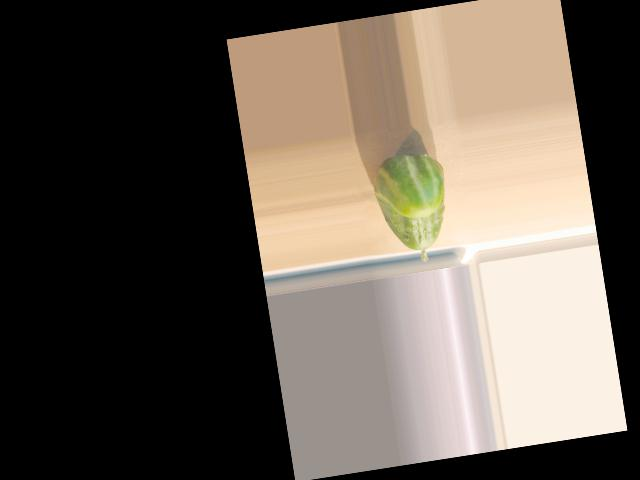cucumber: (370, 149, 457, 267)
